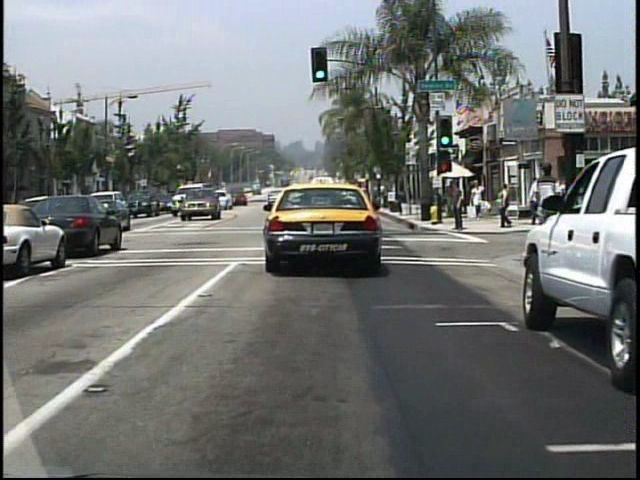person: (530, 158, 564, 258), (497, 181, 516, 229), (452, 182, 469, 235), (445, 181, 461, 226), (473, 180, 489, 221)
